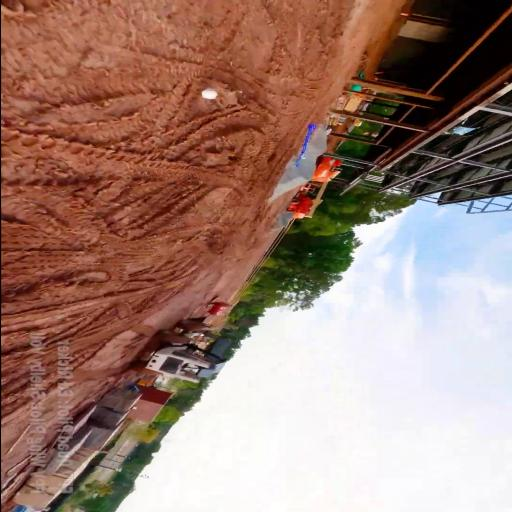uav: (290, 116, 322, 168)
